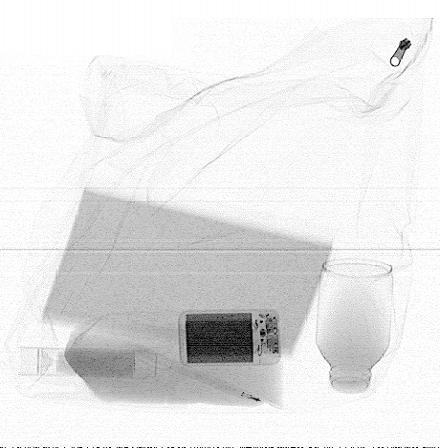Powerbank: (178, 309, 282, 367)
